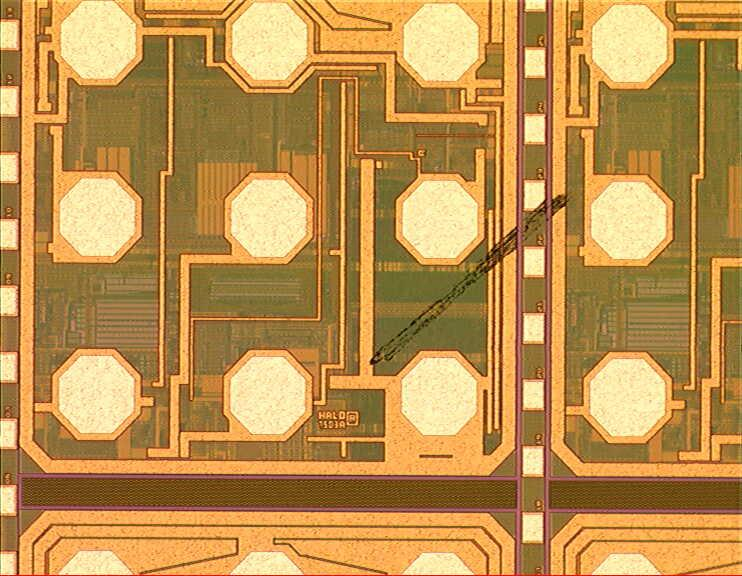SCRATCH: (341, 183, 578, 387)
